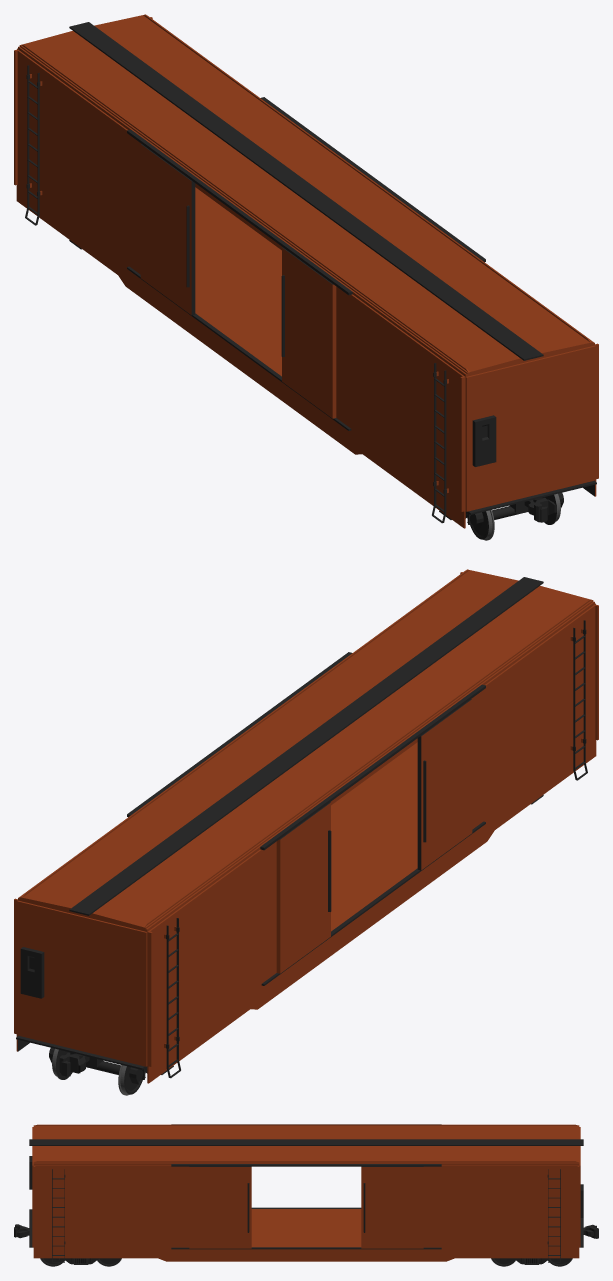
Rendered from box_car.glb.
3 renders of one model, top to bottom at view 1: azimuth 30°, elevation 25°; view 2: azimuth 150°, elevation 25°; view 3: azimuth 270°, elevation 25°, orthographic. The views are drawn at different scales.
Visible parts, largest first — view 1: boxCar_2, wheel_1; view 2: boxCar_2, wheel_1; view 3: boxCar_2, wheel_1, wheelHolder_0.
Part boxes in pixels (x1=…): boxCar_2: x1=14, y1=14, x2=598, y2=528; wheel_1: x1=469, y1=493, x2=560, y2=540; boxCar_2: x1=14, y1=569, x2=598, y2=1083; wheel_1: x1=52, y1=1048, x2=143, y2=1095; boxCar_2: x1=14, y1=1124, x2=598, y2=1262; wheel_1: x1=40, y1=1258, x2=572, y2=1266; wheelHolder_0: x1=47, y1=1258, x2=565, y2=1264.
Size of the model in its own units: 3.21 by 3.97 by 18.34.
